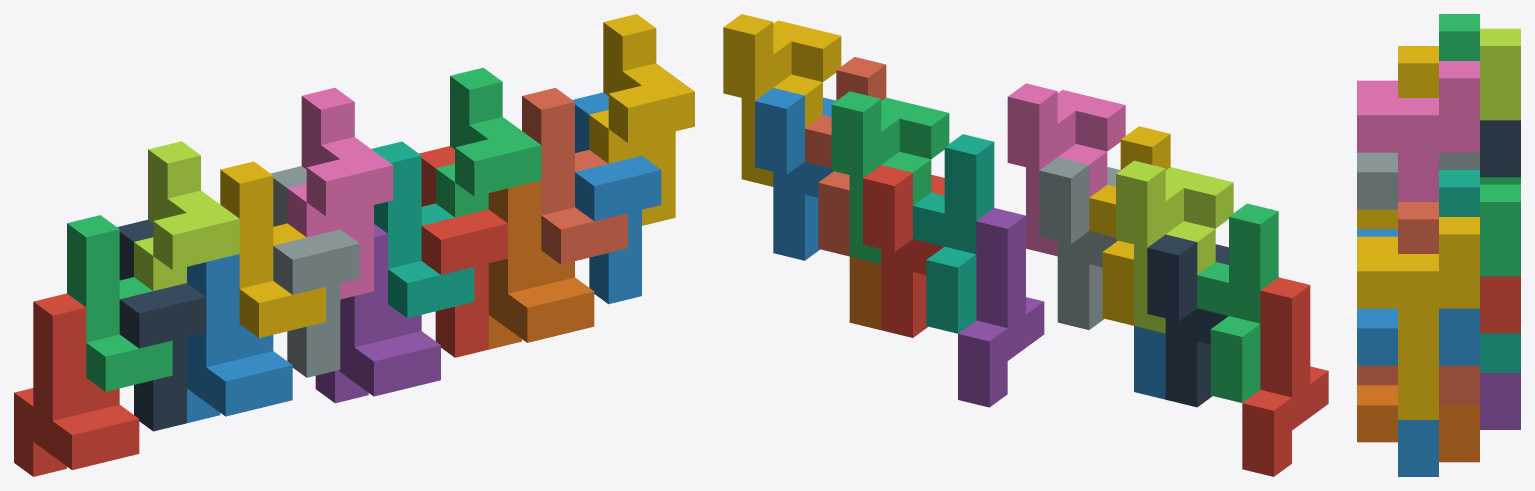
File: tiling.obj
3 renders of one model, left to right at view 1: azimuth 30°, elevation 25°; view 2: azimuth 150°, elevation 25°; view 3: azimuth 270°, elevation 25°, orthographic. The views are drawn at different scales.
Visible parts, largest first — view 1: copy_1_domain_1, copy_2_domain_4, copy_2_domain_8, copy_1_domain_6, copy_1_domain_2, copy_1_domain_5, copy_2_domain_7, copy_2_domain_3, copy_1_domain_3, copy_1_domain_4, copy_1_domain_8, copy_2_domain_1 (+4 smaller); view 2: copy_1_domain_1, copy_1_domain_5, copy_1_domain_7, copy_1_domain_3, copy_2_domain_7, copy_2_domain_4, copy_2_domain_8, copy_2_domain_3, copy_2_domain_1, copy_2_domain_5, copy_2_domain_2, copy_2_domain_6 (+4 smaller); view 3: copy_2_domain_8, copy_2_domain_4, copy_2_domain_6, copy_1_domain_6, copy_1_domain_8, copy_2_domain_3, copy_2_domain_7, copy_1_domain_7, copy_2_domain_2, copy_1_domain_4, copy_2_domain_1, copy_2_domain_5 (+3 smaller).
Boxes of the visible parts, x1,y1,x2,y2 form: copy_1_domain_1: (14, 293, 139, 476); copy_2_domain_4: (287, 87, 393, 299); copy_2_domain_8: (589, 14, 694, 225); copy_1_domain_6: (488, 180, 594, 349); copy_1_domain_2: (187, 254, 292, 423); copy_1_domain_5: (315, 224, 440, 403); copy_2_domain_7: (435, 67, 541, 217); copy_2_domain_3: (134, 141, 239, 290); copy_1_domain_3: (67, 215, 172, 391); copy_1_domain_4: (220, 161, 325, 338); copy_1_domain_8: (522, 88, 627, 264); copy_2_domain_1: (117, 219, 206, 431); copy_1_domain_1: (1242, 277, 1328, 476); copy_1_domain_5: (958, 208, 1044, 407); copy_1_domain_7: (913, 134, 994, 333); copy_1_domain_3: (1197, 203, 1278, 402); copy_2_domain_7: (831, 91, 949, 263); copy_2_domain_4: (1007, 83, 1125, 256); copy_2_domain_8: (723, 14, 841, 186); copy_2_domain_3: (1116, 160, 1233, 333); copy_2_domain_1: (1147, 234, 1228, 407); copy_2_domain_5: (863, 165, 944, 337); copy_2_domain_2: (1039, 157, 1120, 329); copy_2_domain_6: (755, 88, 835, 260); copy_2_domain_8: (1357, 217, 1479, 419); copy_2_domain_4: (1357, 61, 1479, 201); copy_2_domain_6: (1357, 308, 1479, 476); copy_1_domain_6: (1357, 385, 1479, 462); copy_1_domain_8: (1357, 202, 1479, 405); copy_2_domain_3: (1480, 28, 1520, 120); copy_2_domain_7: (1480, 184, 1520, 276); copy_1_domain_7: (1439, 170, 1520, 372); copy_2_domain_2: (1357, 152, 1479, 209); copy_1_domain_4: (1357, 46, 1438, 229); copy_2_domain_1: (1480, 120, 1520, 177); copy_2_domain_5: (1480, 276, 1520, 333).
Bounding box in the file's own units: 18 × 9 × 4.
